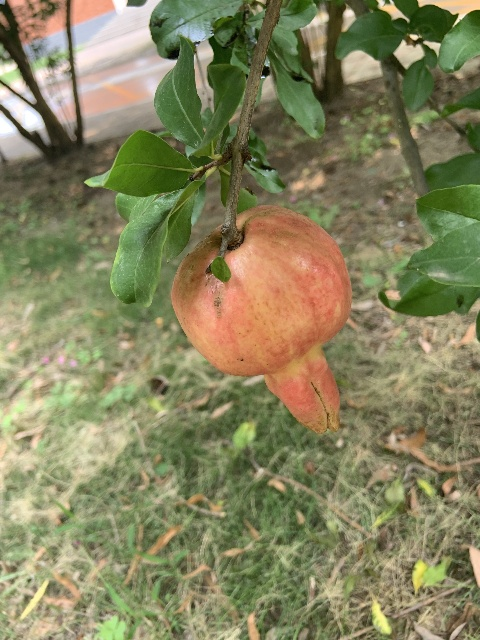ripe: (171, 205, 351, 433)
